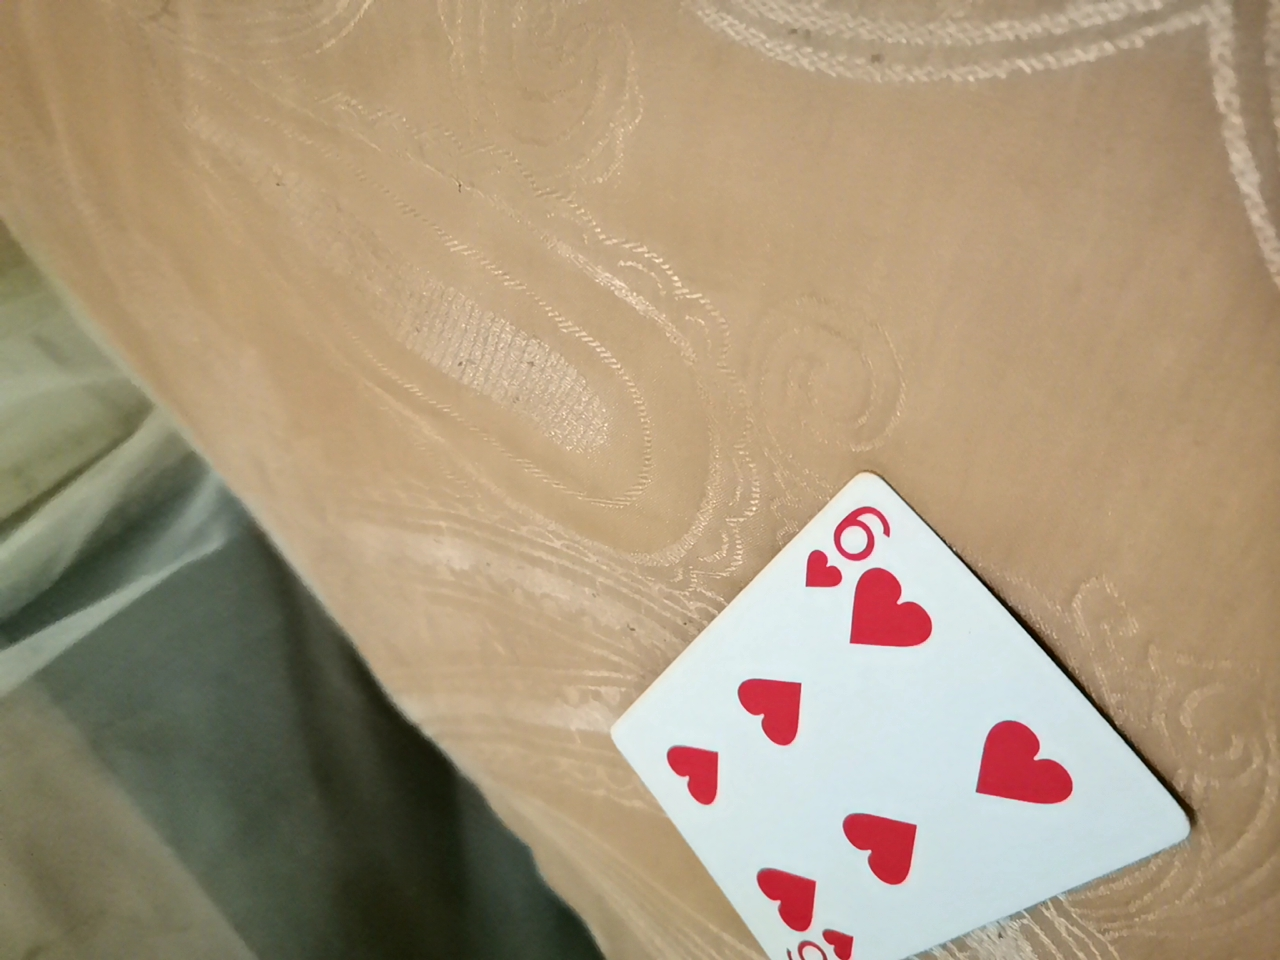hx 6: (596, 459, 1200, 953)
